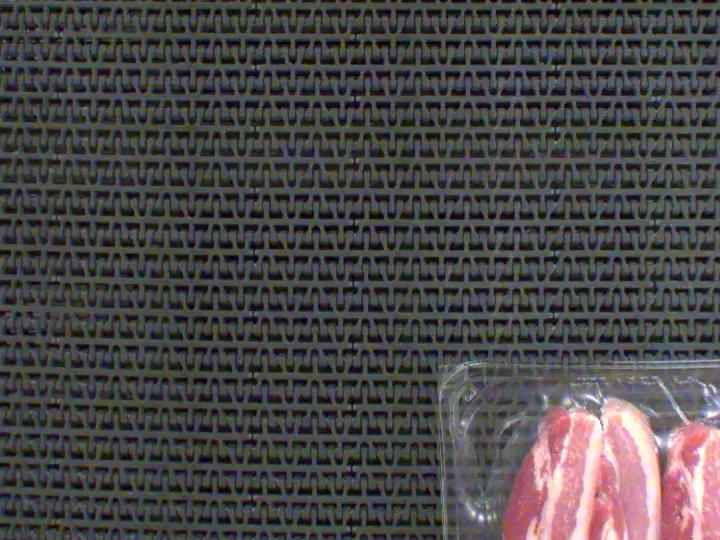unsealed: (445, 353, 720, 540)
